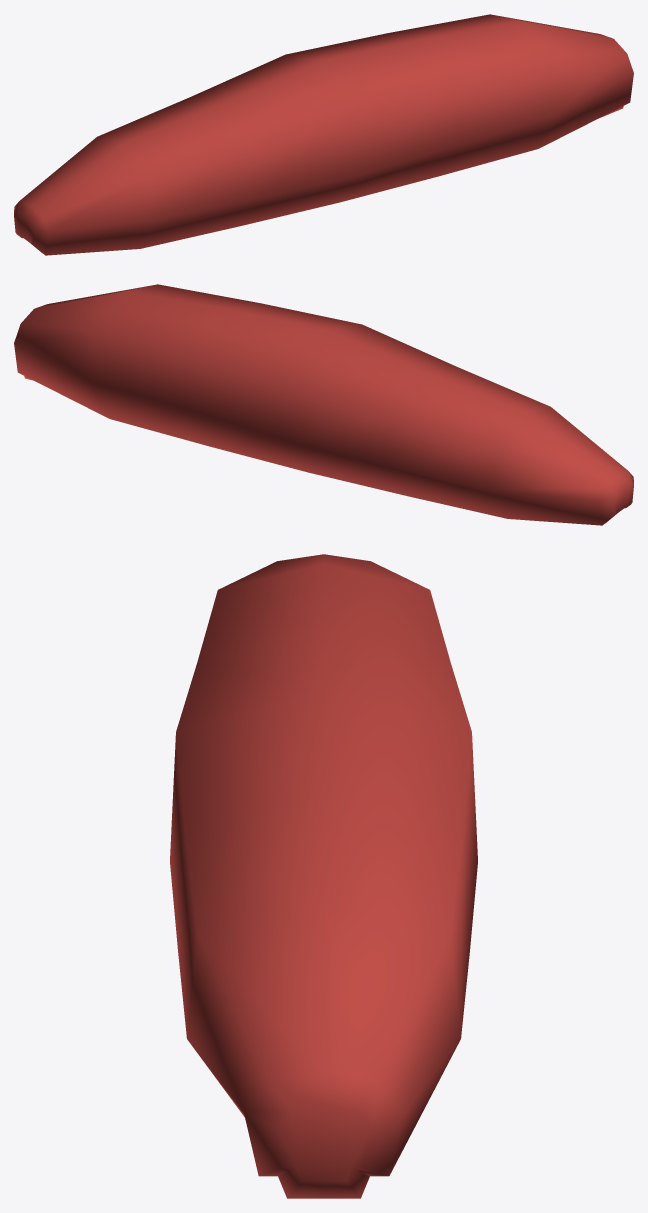
File: enduro_lod2.glb
3 renders of one model, top to bottom at view 1: azimuth 30°, elevation 25°; view 2: azimuth 150°, elevation 25°; view 3: azimuth 270°, elevation 25°, orthographic. The views are drawn at different scales.
Parts seen in each view (by area): view 1: enduro_lod2; view 2: enduro_lod2; view 3: enduro_lod2.
Part boxes in pixels (x1,y1,x2,y2): enduro_lod2: [14, 14, 633, 255]; enduro_lod2: [14, 284, 633, 525]; enduro_lod2: [170, 554, 477, 1198].
Size of the model in its own units: 1 by 0.2079 by 0.2236.
